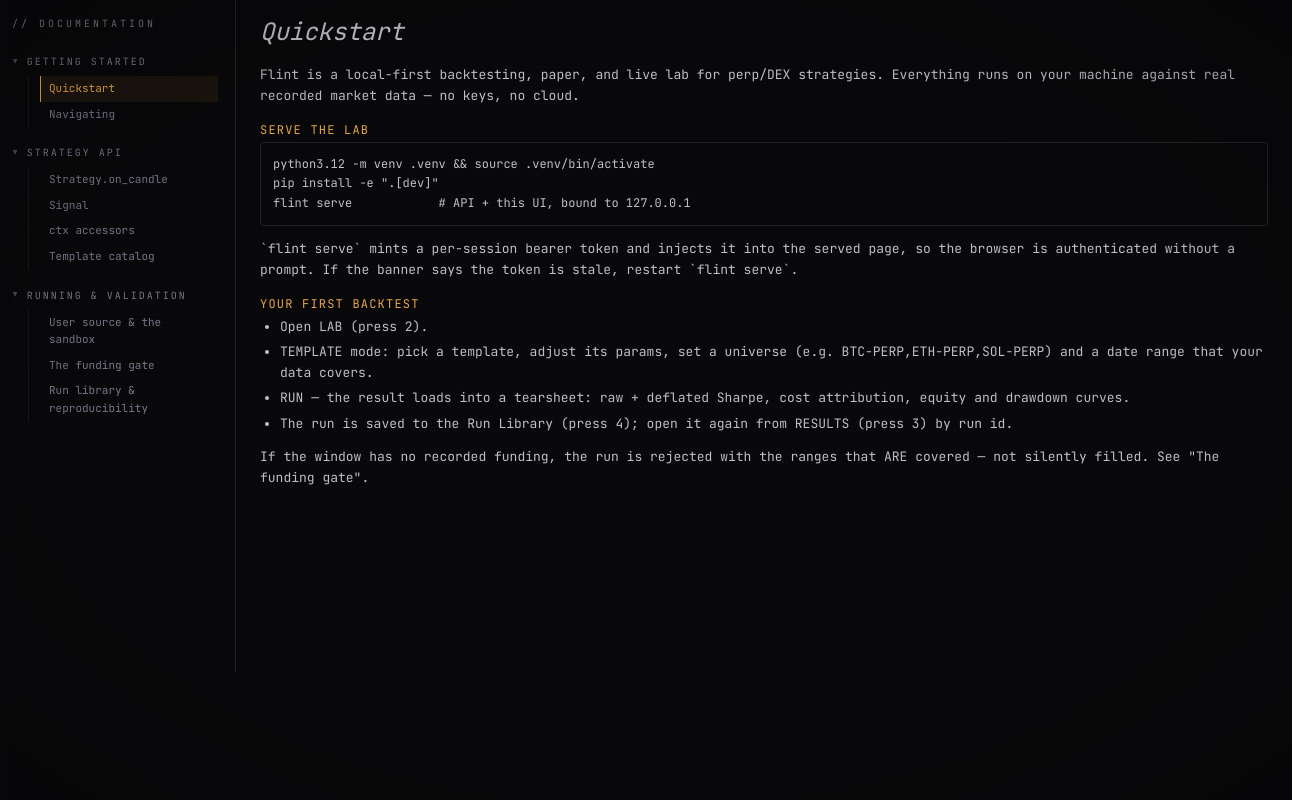
Test: Docs › switches topics from the sidebar
Click the button "The funding gate": [130, 366] box x1=41 y1=353 x2=219 y2=378
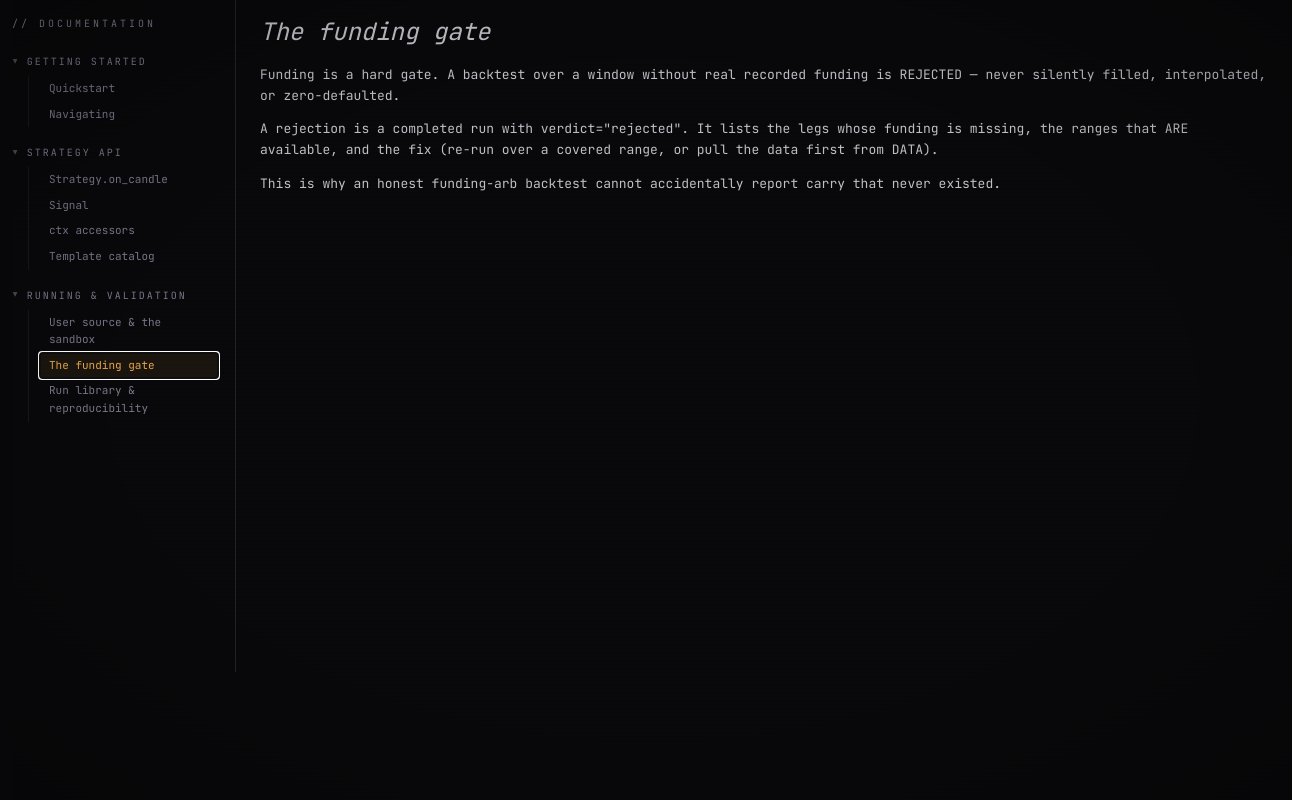
Expected: the heading "The funding gate" is shown, x1=260 y1=16 x2=490 y2=47
Expected: the text "never silently filled" is shown, x1=260 y1=66 x2=1266 y2=104
